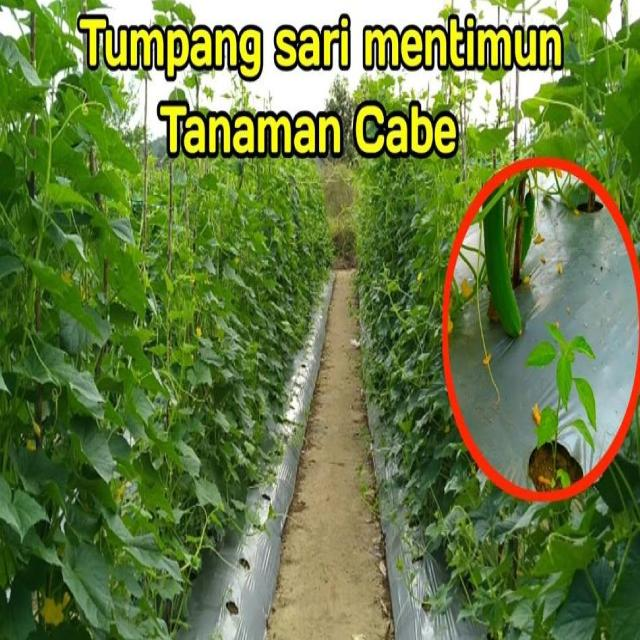row: (249, 265, 410, 640)
